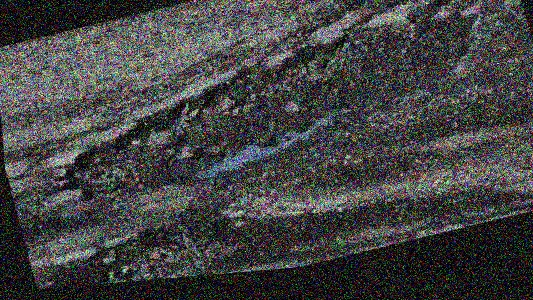pothole: (35, 0, 506, 215), (65, 203, 253, 287)
